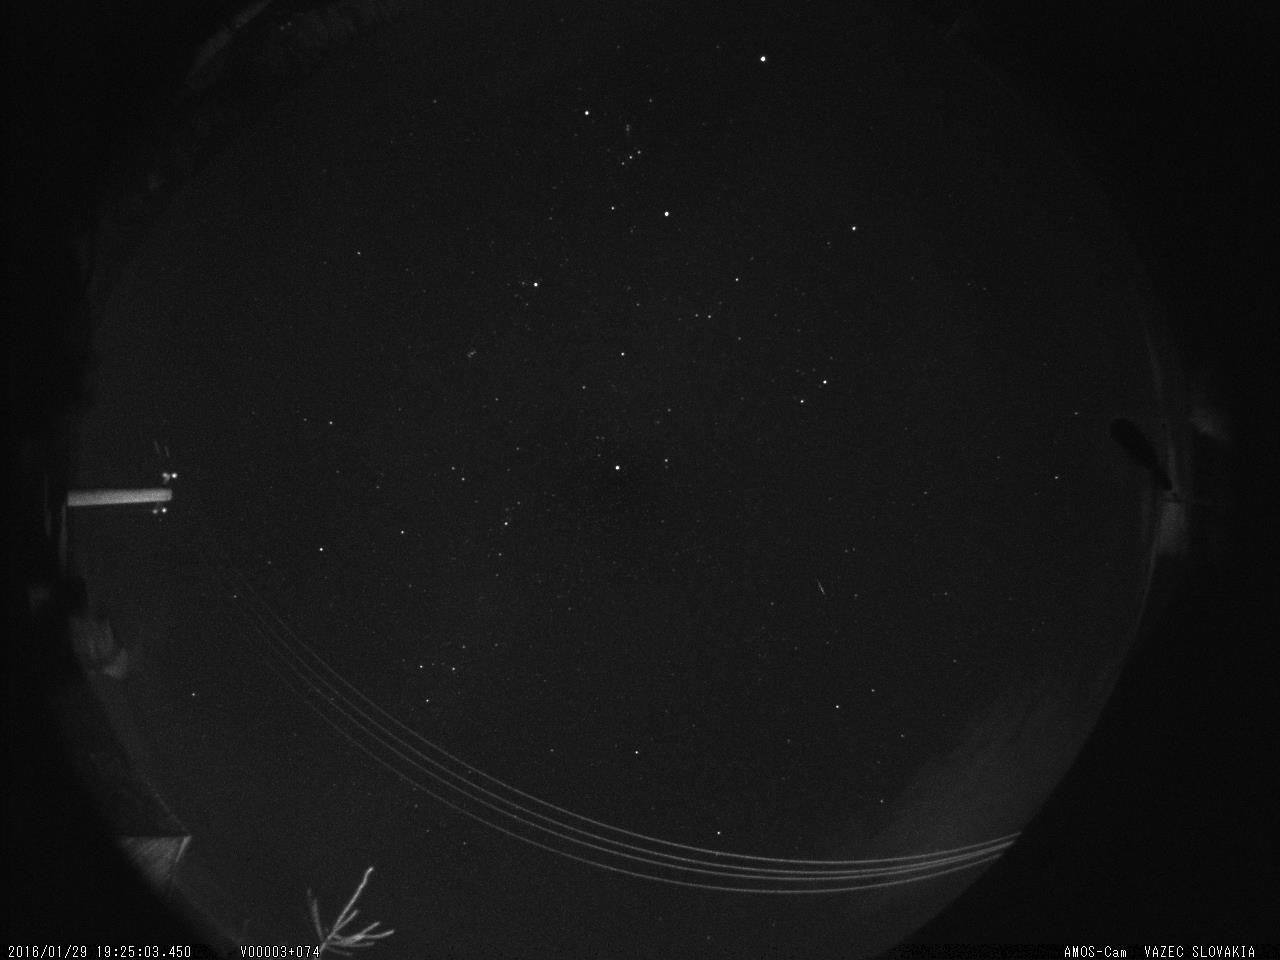meteor: (809, 573, 835, 602)
